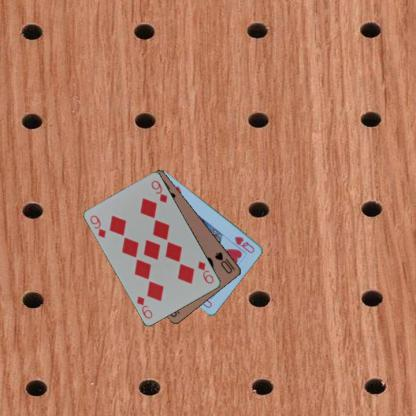10s: (212, 249, 236, 275)
9d: (195, 258, 215, 285), (88, 213, 107, 239)
Qh: (232, 234, 256, 254)
